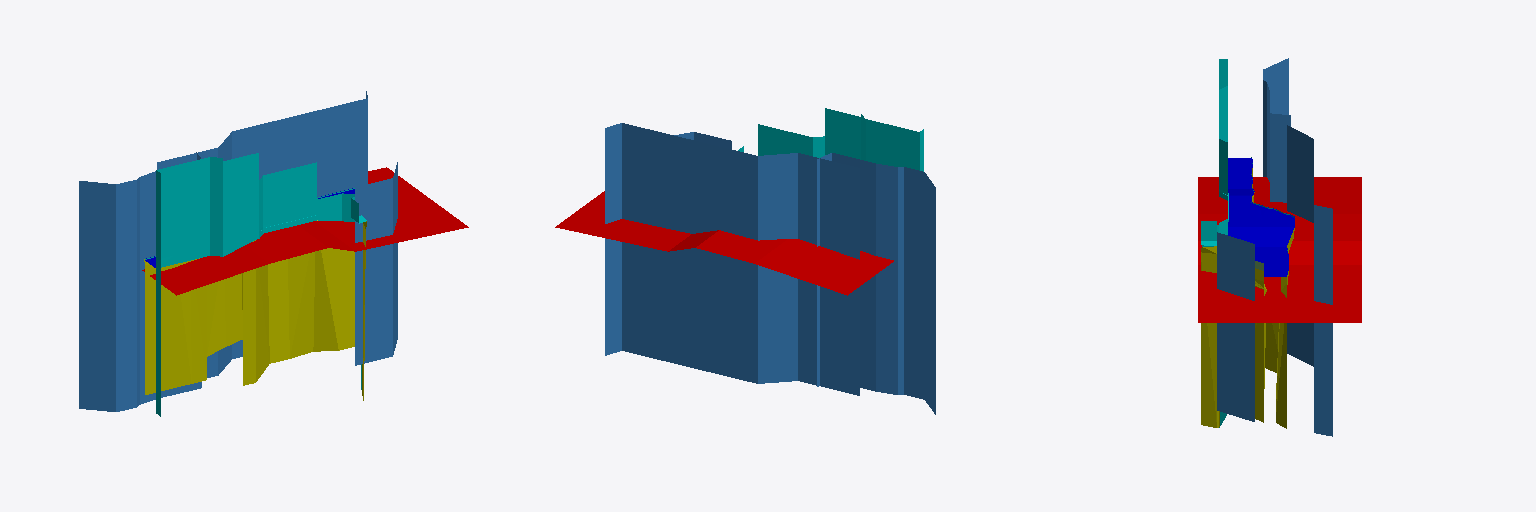
The model's file is STG0100_COLI_04.OBJ.
The picture shows the model from 3 angles: view 1: azimuth 30°, elevation 25°; view 2: azimuth 150°, elevation 25°; view 3: azimuth 270°, elevation 25°; orthographic projection.
Visible parts, largest first — view 1: STG0100_COLI_04_[number redacted], STG0100_COLI_04_[number redacted], STG0100_COLI_04_[number redacted], STG0100_COLI_04_[number redacted]; view 2: STG0100_COLI_04_[number redacted], STG0100_COLI_04_[number redacted], STG0100_COLI_04_[number redacted]; view 3: STG0100_COLI_04_[number redacted], STG0100_COLI_04_[number redacted], STG0100_COLI_04_[number redacted], STG0100_COLI_04_[number redacted], STG0100_COLI_04_[number redacted].
Part boxes in pixels (x1,y1,x2,y2): STG0100_COLI_04_[number redacted]: (79, 91, 397, 411); STG0100_COLI_04_[number redacted]: (144, 220, 366, 400); STG0100_COLI_04_[number redacted]: (145, 153, 366, 416); STG0100_COLI_04_[number redacted]: (142, 167, 468, 295); STG0100_COLI_04_[number redacted]: (605, 123, 935, 414); STG0100_COLI_04_[number redacted]: (555, 191, 893, 295); STG0100_COLI_04_[number redacted]: (738, 108, 923, 171); STG0100_COLI_04_[number redacted]: (1217, 58, 1332, 436); STG0100_COLI_04_[number redacted]: (1198, 177, 1361, 322); STG0100_COLI_04_[number redacted]: (1201, 168, 1294, 428); STG0100_COLI_04_[number redacted]: (1228, 158, 1294, 276); STG0100_COLI_04_[number redacted]: (1201, 59, 1294, 427).
Bounding box in the file's own units: 2751 × 2069 × 1136.